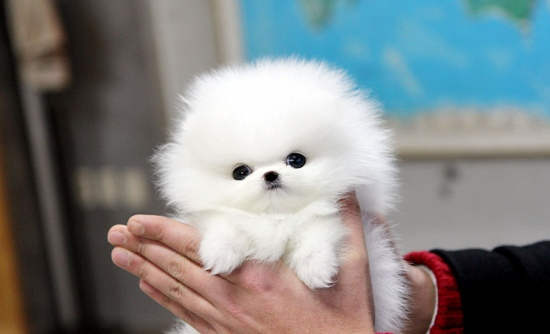pomeranian: (155, 52, 404, 237)
